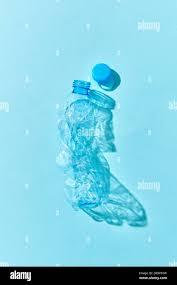plastic: (54, 77, 124, 212)
